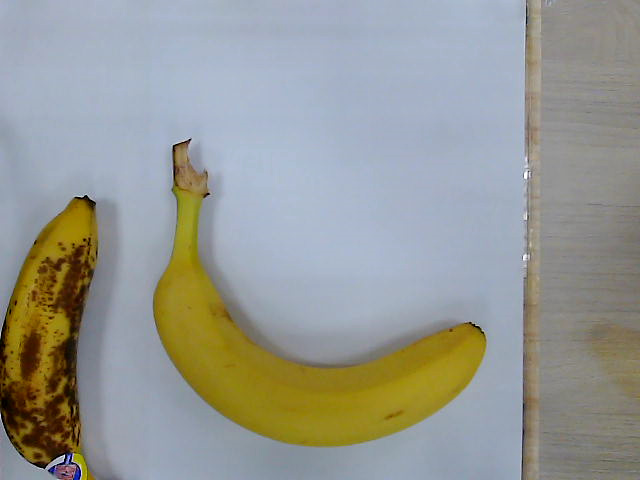fresh_banana: (154, 135, 487, 449)
rotten_banana: (1, 195, 102, 478)
